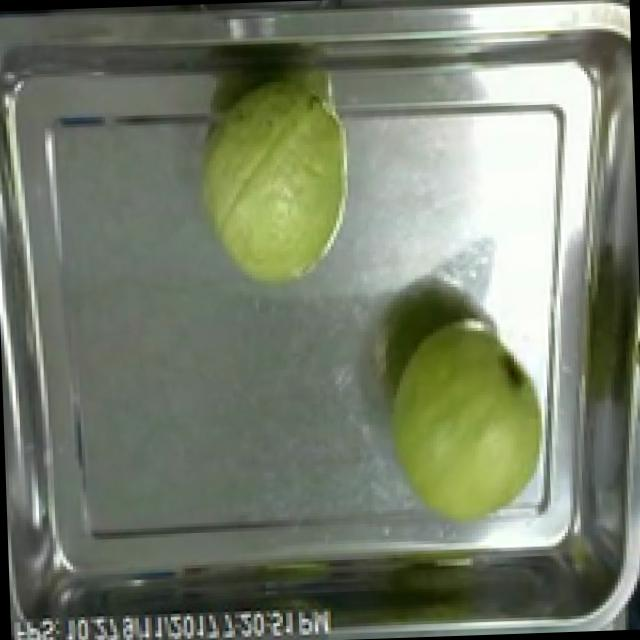Fruit: (373, 306, 568, 536), (183, 72, 367, 296)
